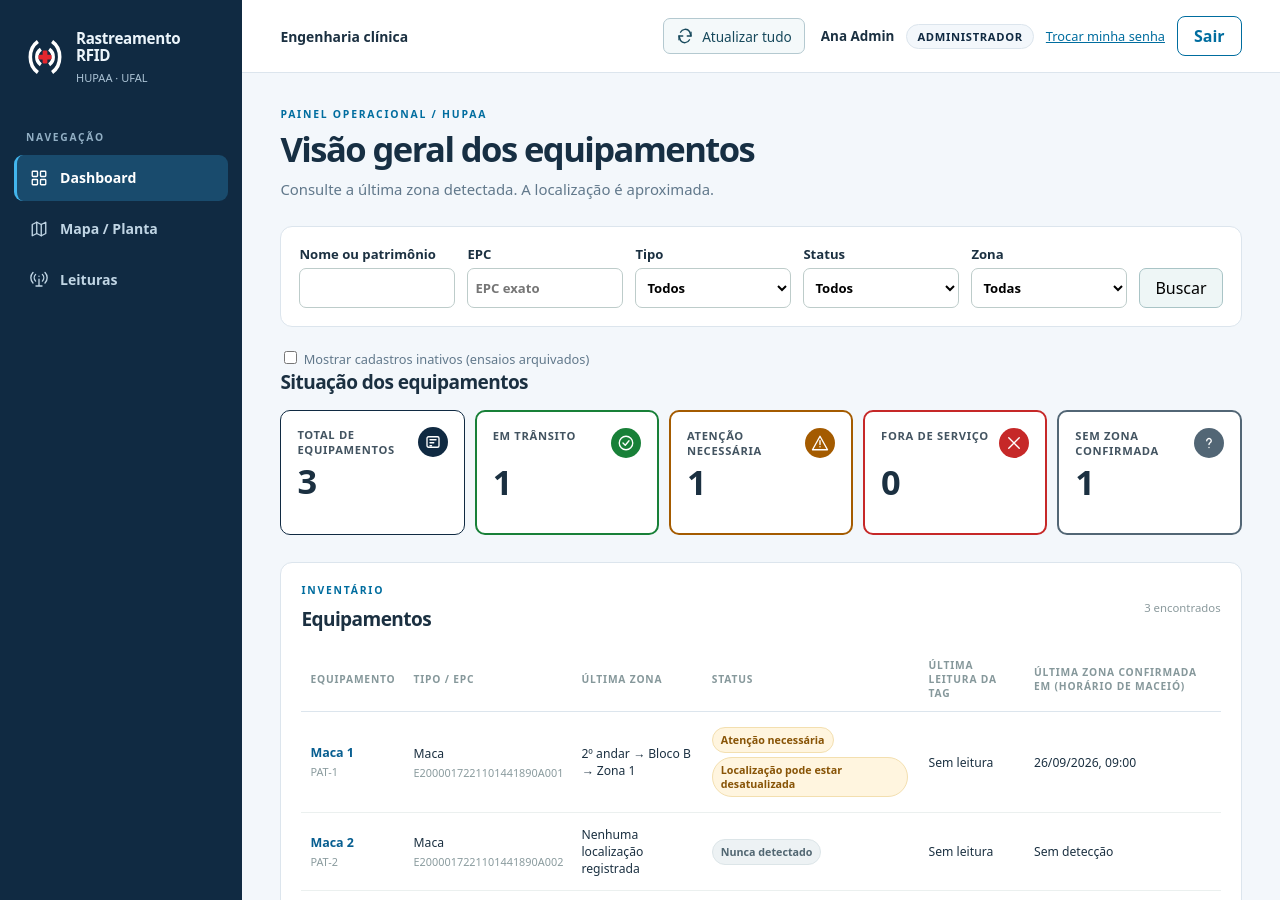
it: integração da busca › limpa a lista antiga ao falhar uma busca e recupera no retry
Type "Maca" into the search field labelled "Nome ou patrimônio" at (377, 288), box [299,268,455,308]
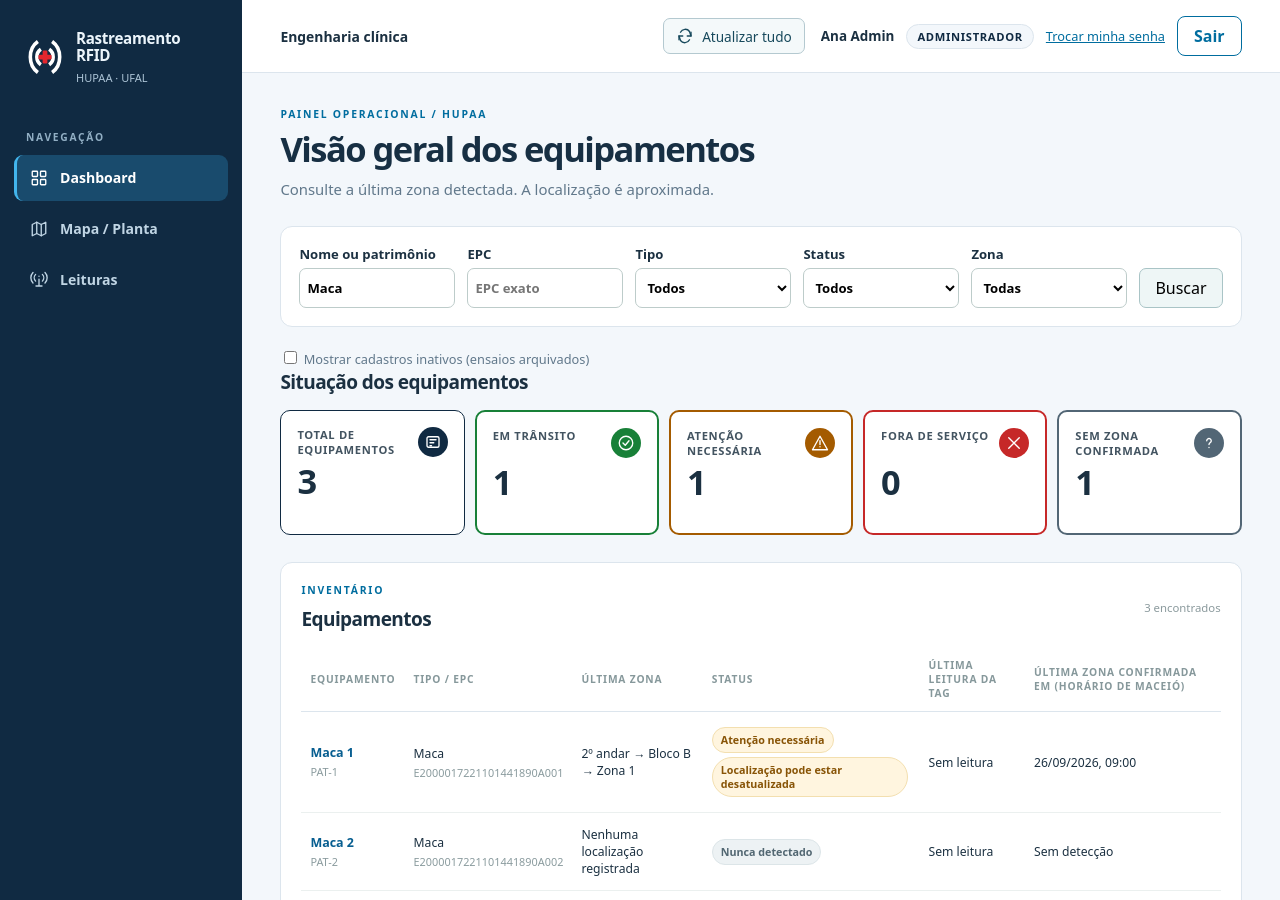
Click the button "Buscar" at (1181, 288), box [1139,268,1223,308]
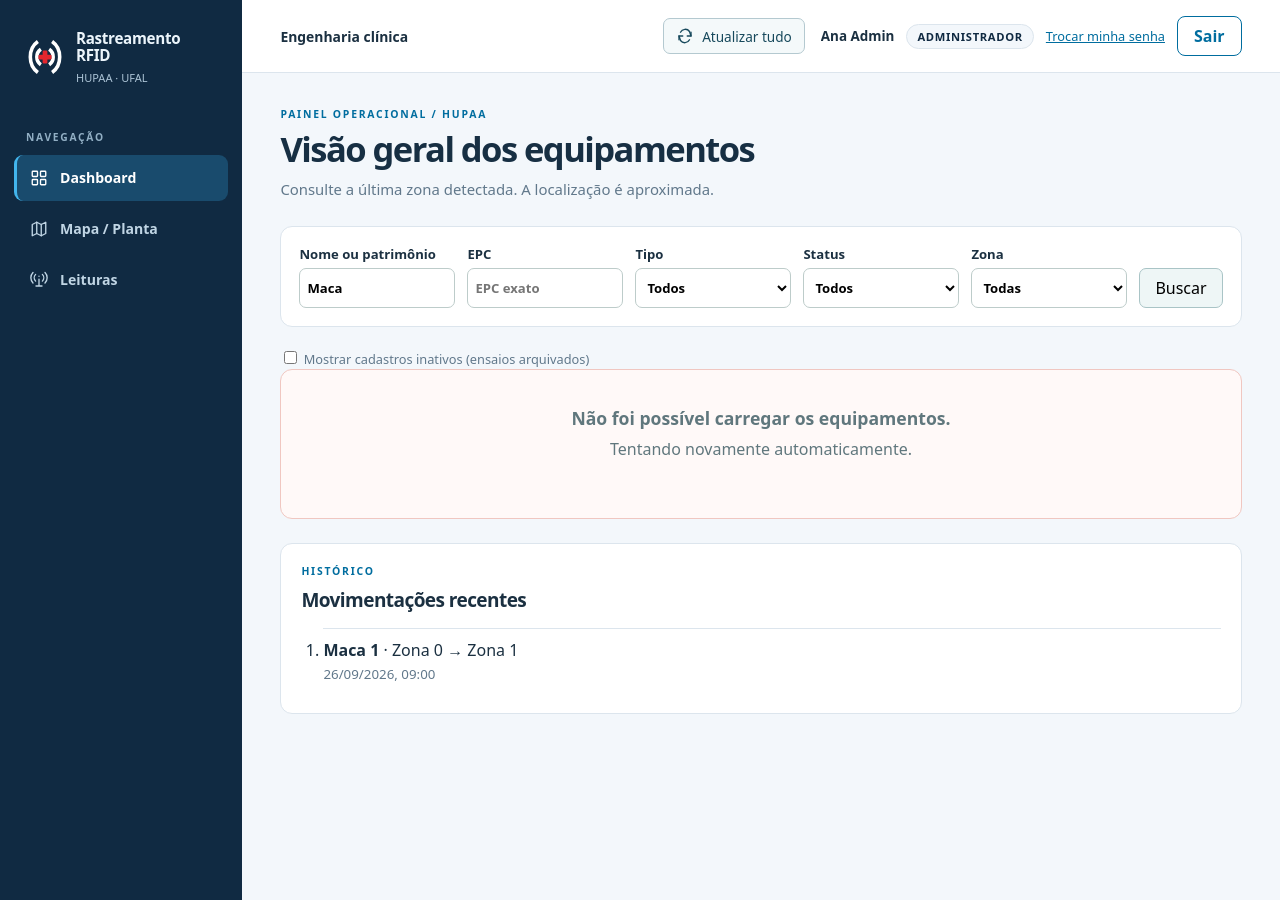
Expected: the heading "Não foi possível carregar os equipamentos." is shown, [571,406,951,430]
Click the button with aria-label "Atualizar todos os dados" at (734, 36), box [663,18,805,54]
(page scrolled)
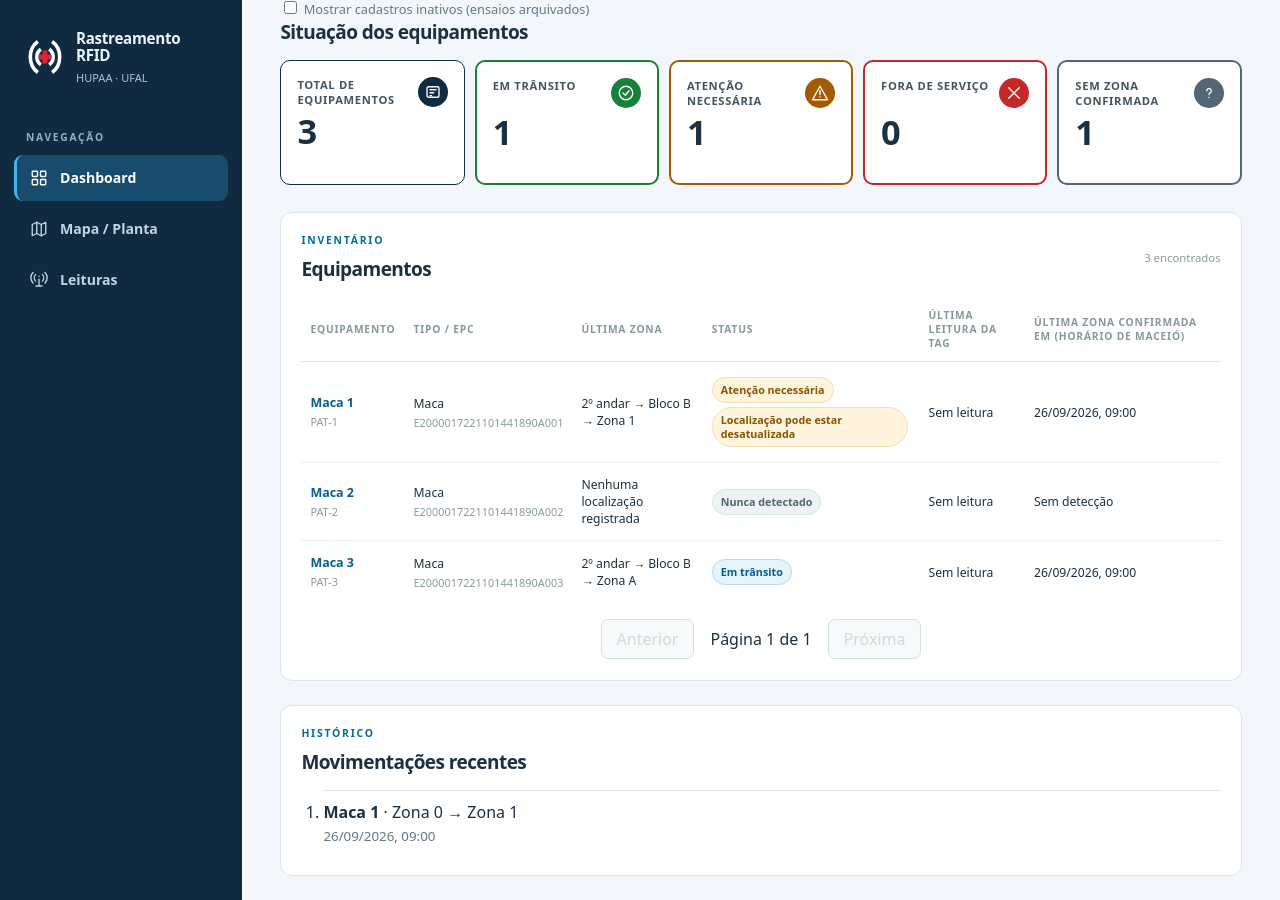
Expected: the table is shown, [301,297,1221,603]
